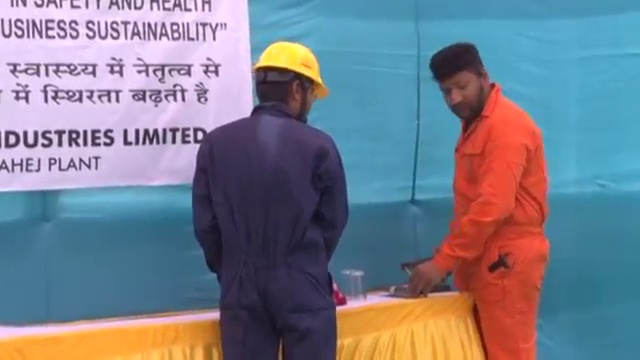helmet: (252, 39, 330, 99)
helmet_off: (428, 41, 496, 123)
helmet_on: (252, 39, 331, 126)
person: (189, 40, 349, 359), (404, 41, 554, 360)
